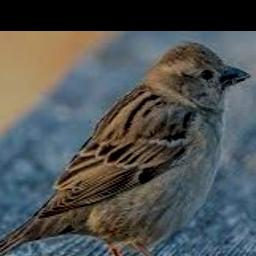Sparrow: (0, 41, 251, 256)
